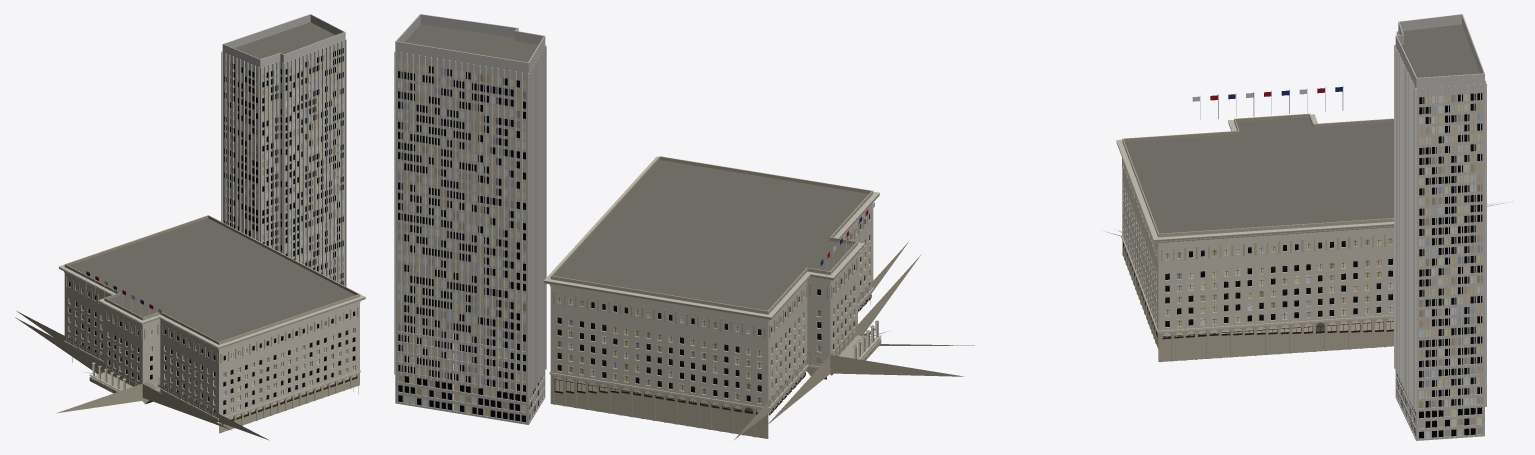
Rendered from fairmont_lod0.glb.
The picture shows the model from 3 angles, left to right: view 1: azimuth 30°, elevation 25°; view 2: azimuth 150°, elevation 25°; view 3: azimuth 270°, elevation 25°; orthographic projection. The views are drawn at different scales.
Parts seen in each view (by area): view 1: L0_stone, L0_concrete, L0_roof, L0_win, L0_metal; view 2: L0_concrete, L0_stone, L0_roof, L0_win, L0_metal, L0_shop; view 3: L0_stone, L0_concrete, L0_roof, L0_win, L0_metal, L0_shop.
Boxes of the visible parts, <box> form: L0_stone: <box>15,215,365,440</box>; L0_concrete: <box>221,14,346,286</box>; L0_roof: <box>69,22,355,341</box>; L0_win: <box>69,48,354,414</box>; L0_metal: <box>69,270,357,424</box>; L0_concrete: <box>394,14,546,424</box>; L0_stone: <box>544,156,974,440</box>; L0_roof: <box>404,24,868,310</box>; L0_win: <box>398,61,869,422</box>; L0_metal: <box>554,204,872,415</box>; L0_shop: <box>555,299,867,413</box>; L0_stone: <box>1107,113,1512,362</box>; L0_concrete: <box>1394,14,1486,440</box>; L0_roof: <box>1125,24,1479,233</box>; L0_win: <box>1165,93,1482,438</box>; L0_metal: <box>1123,86,1393,339</box>; L0_shop: <box>1162,318,1393,337</box>.
Bounding box in the file's own units: 155 × 111 × 139.
